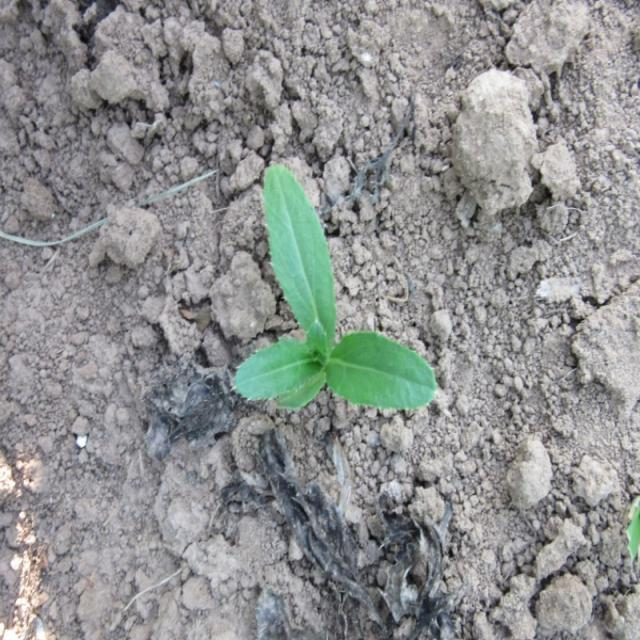cs: (230, 164, 433, 407)
